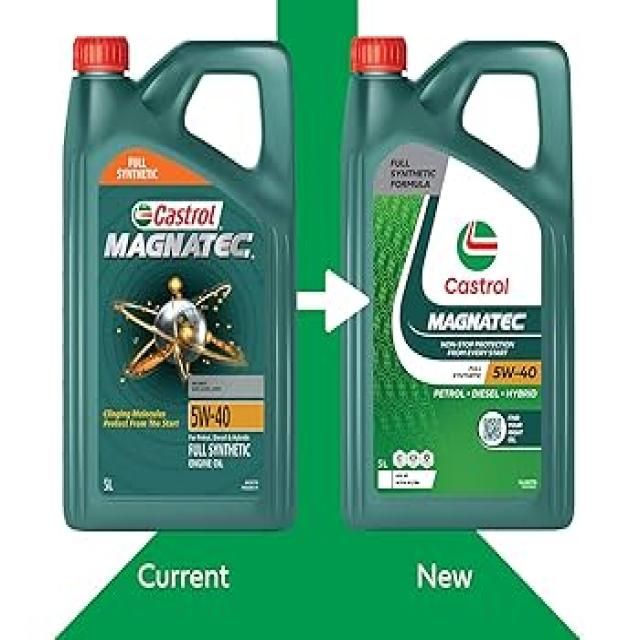motor_oil: (56, 31, 303, 540), (340, 19, 579, 537)
